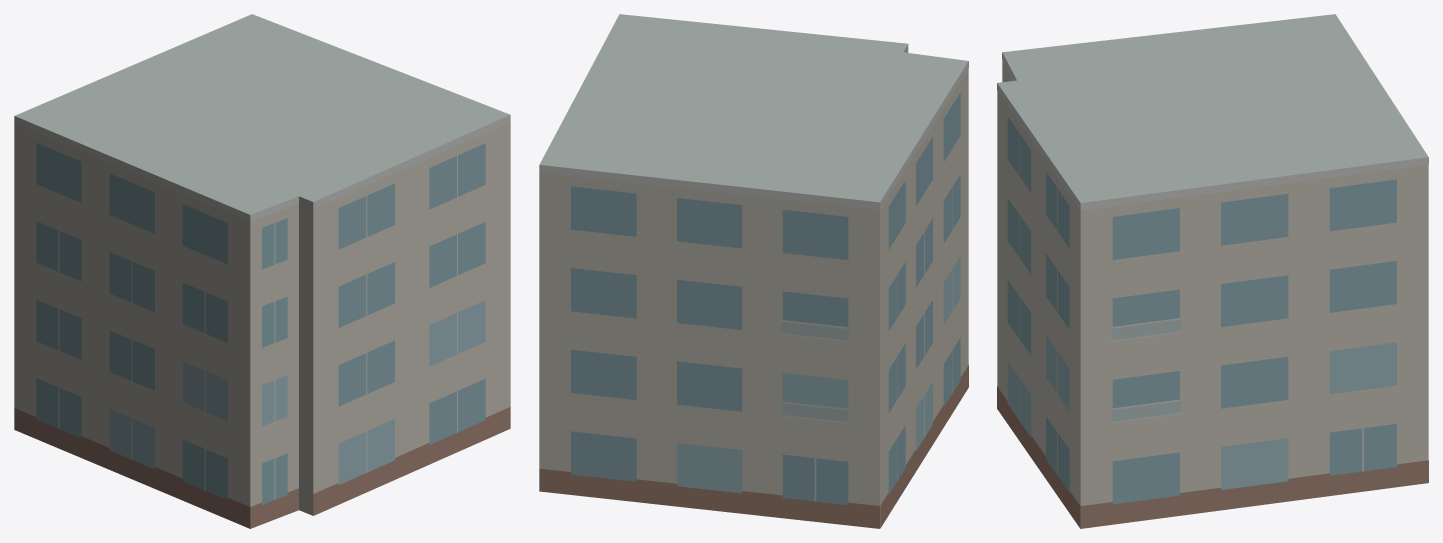
File: survey-upis-33043238.glb
3 views of the same model, side by side, from view 1: azimuth 30°, elevation 25°; view 2: azimuth 150°, elevation 25°; view 3: azimuth 270°, elevation 25° (orthographic). The views are drawn at different scales.
Visible parts, largest first — view 1: survey-upis-33043238.tmp; view 2: survey-upis-33043238.tmp; view 3: survey-upis-33043238.tmp.
Part boxes in pixels (x1=…): survey-upis-33043238.tmp: x1=14, y1=14, x2=510, y2=528; survey-upis-33043238.tmp: x1=539, y1=14, x2=968, y2=528; survey-upis-33043238.tmp: x1=997, y1=14, x2=1428, y2=528.
Size of the model in its own units: 13.08 by 10.5 by 12.62.
